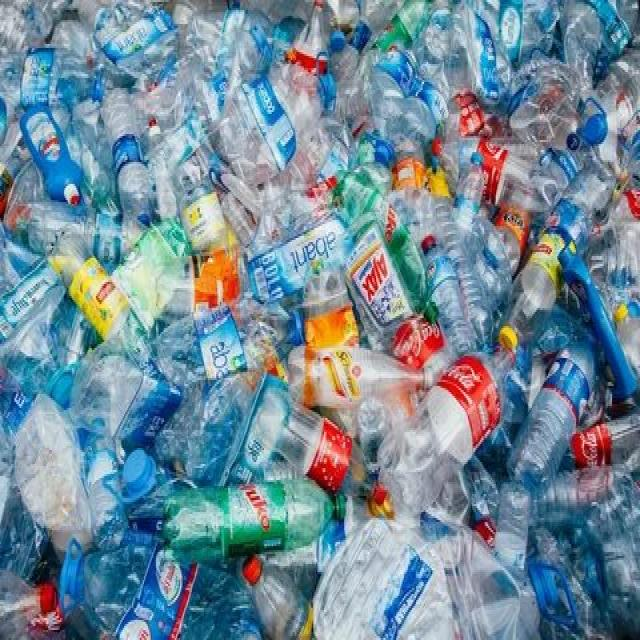blue: (68, 535, 253, 640), (499, 330, 600, 492), (93, 2, 177, 85)
green: (340, 168, 441, 324), (163, 473, 349, 555), (112, 215, 191, 317), (368, 0, 431, 52)
